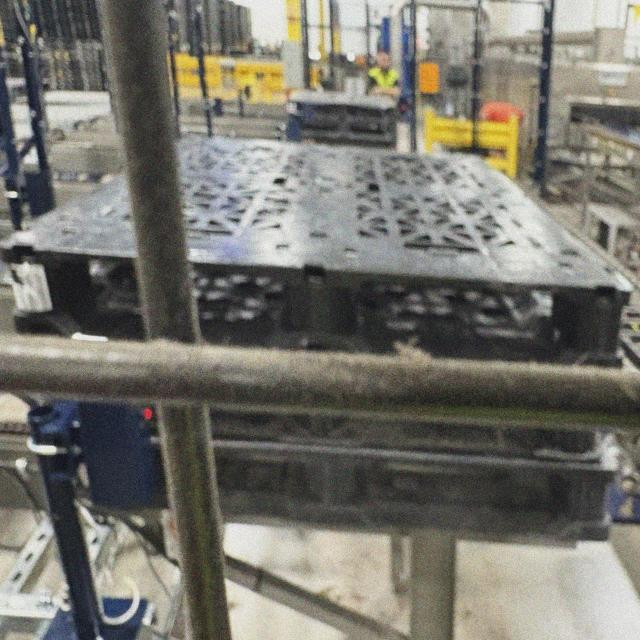igps: (0, 110, 640, 384)
